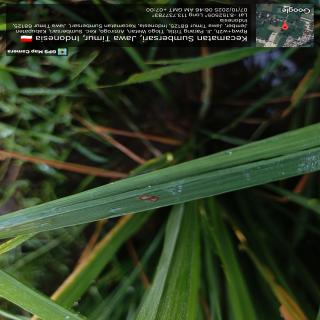Blast: (135, 194, 161, 202)
